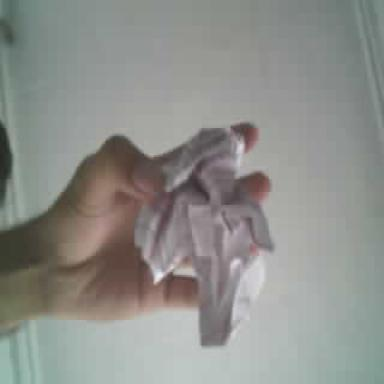paper: (134, 128, 272, 346)
